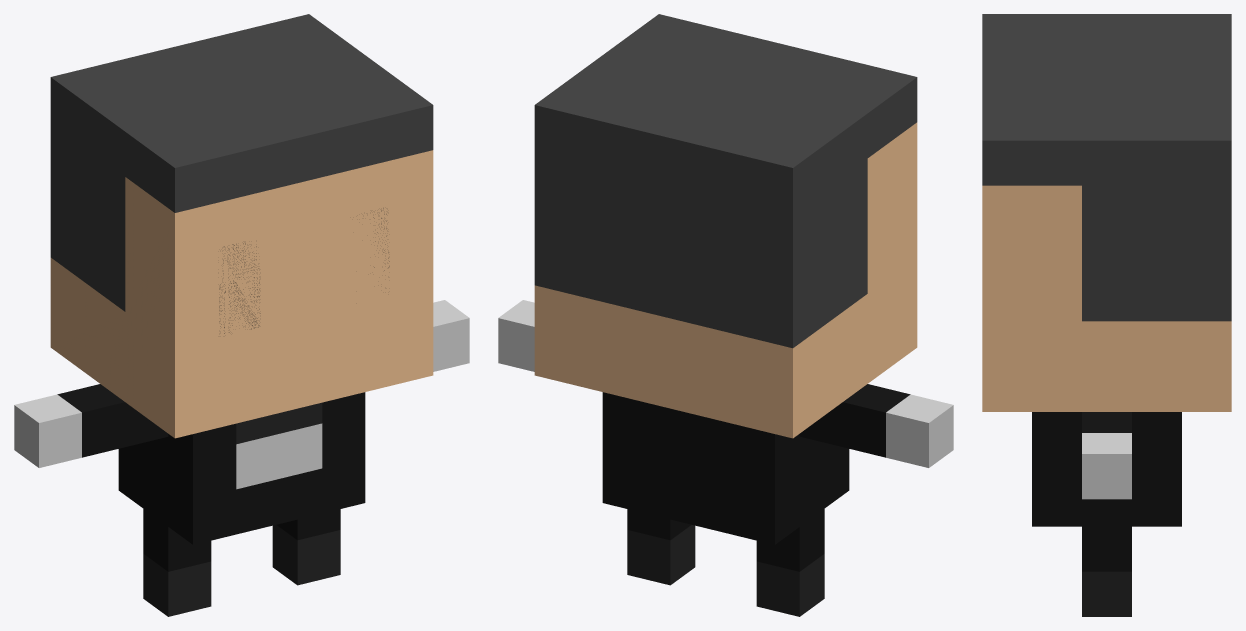
3 views of the same model, side by side, from view 1: azimuth 30°, elevation 25°; view 2: azimuth 150°, elevation 25°; view 3: azimuth 270°, elevation 25° (orthographic).
Visible parts, largest first — view 1: Object_0; view 2: Object_0; view 3: Object_0.
Boxes of the visible parts, x1=… form: Object_0: x1=14, y1=14, x2=469, y2=616; Object_0: x1=498, y1=14, x2=953, y2=616; Object_0: x1=982, y1=14, x2=1231, y2=616.
Size of the model in its own units: 1.45 by 1.6 by 0.7273.
Materials: 1 (1 with a texture image).
